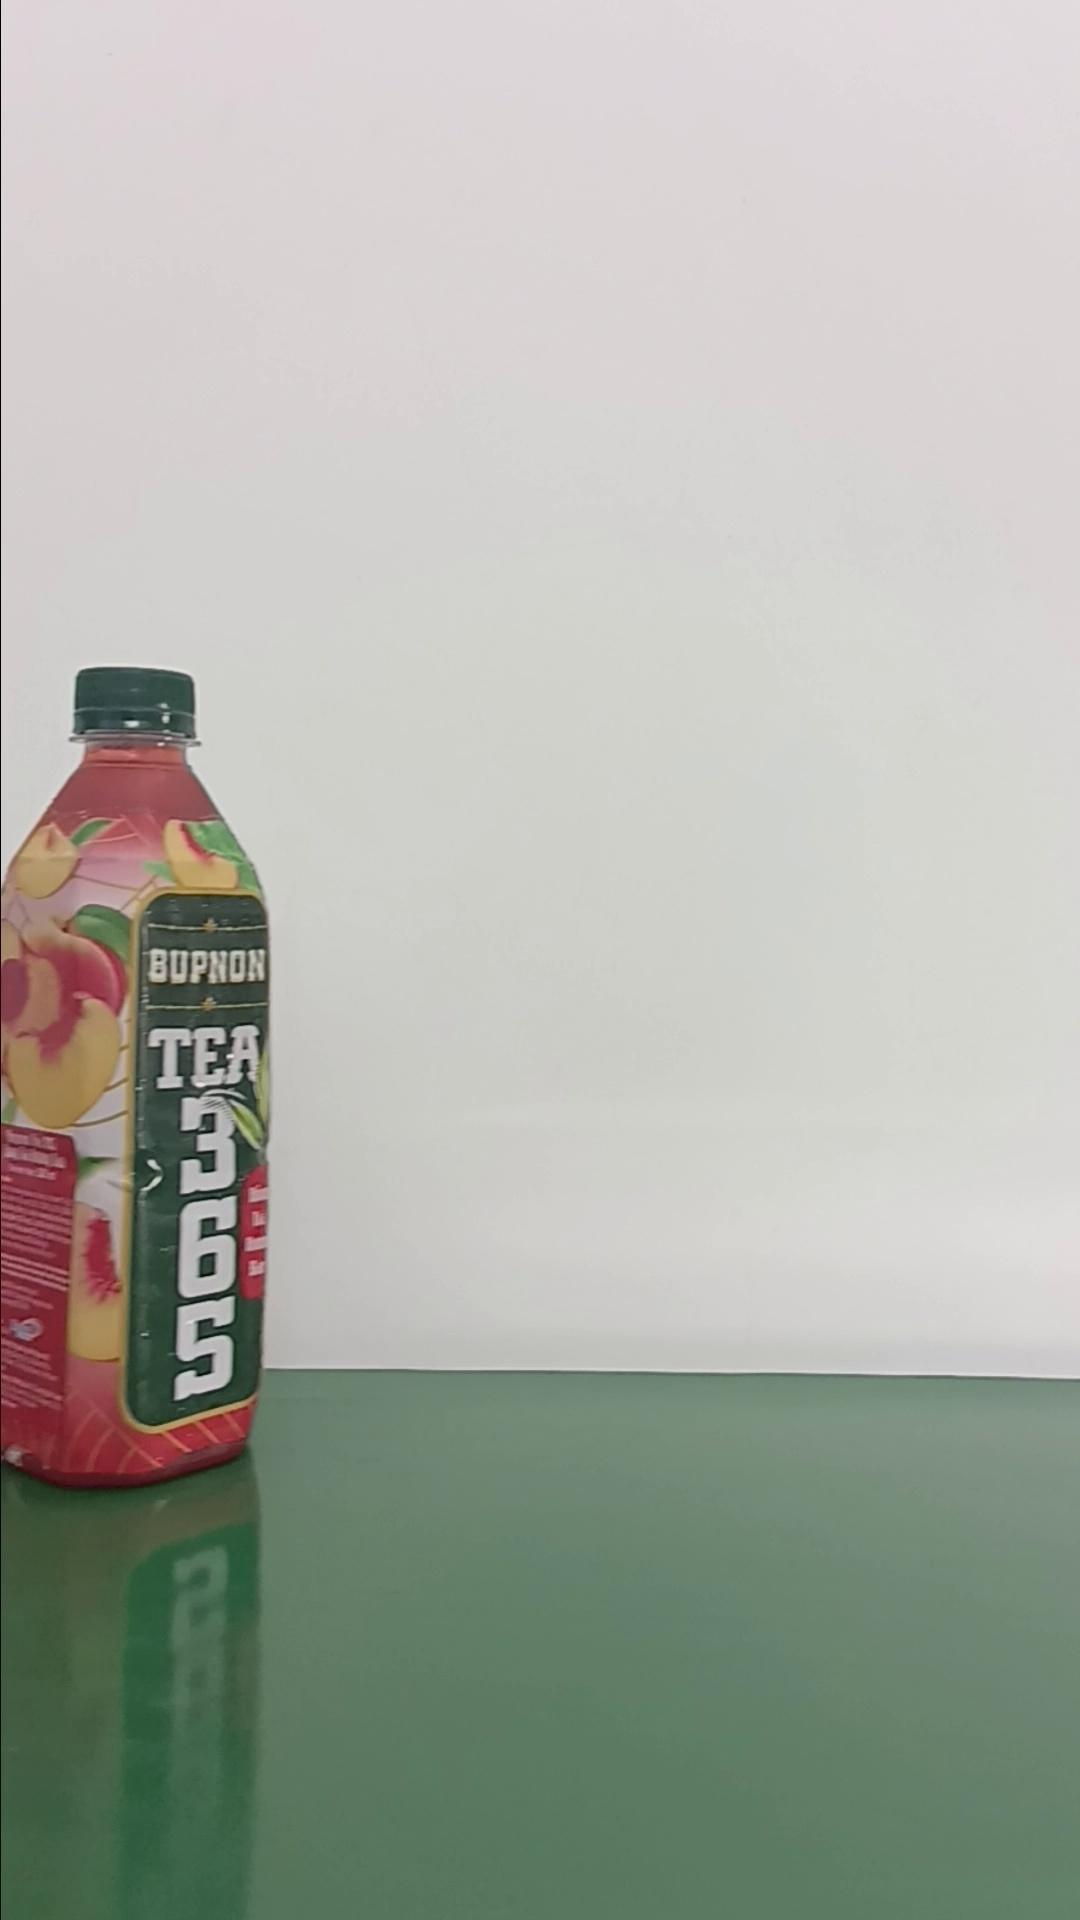khong loi: (1, 663, 274, 1489)
